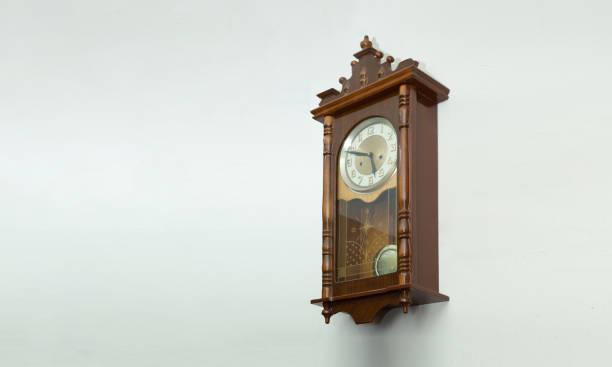clock: (342, 121, 398, 192)
